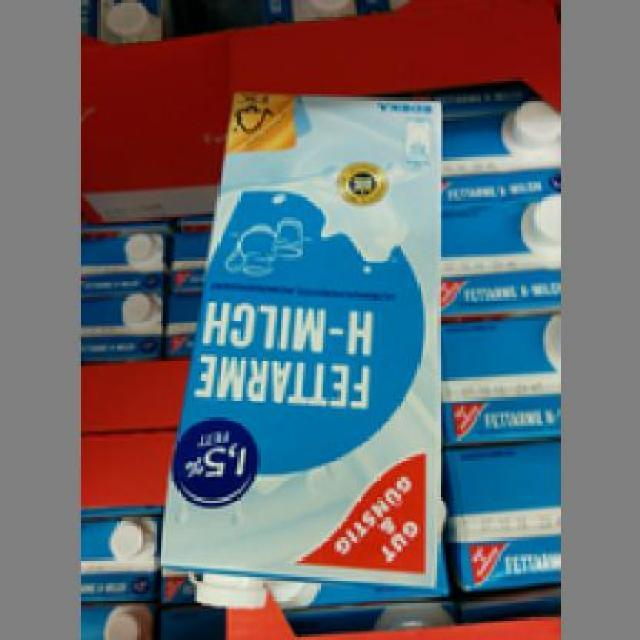Milk: (159, 83, 452, 600)
